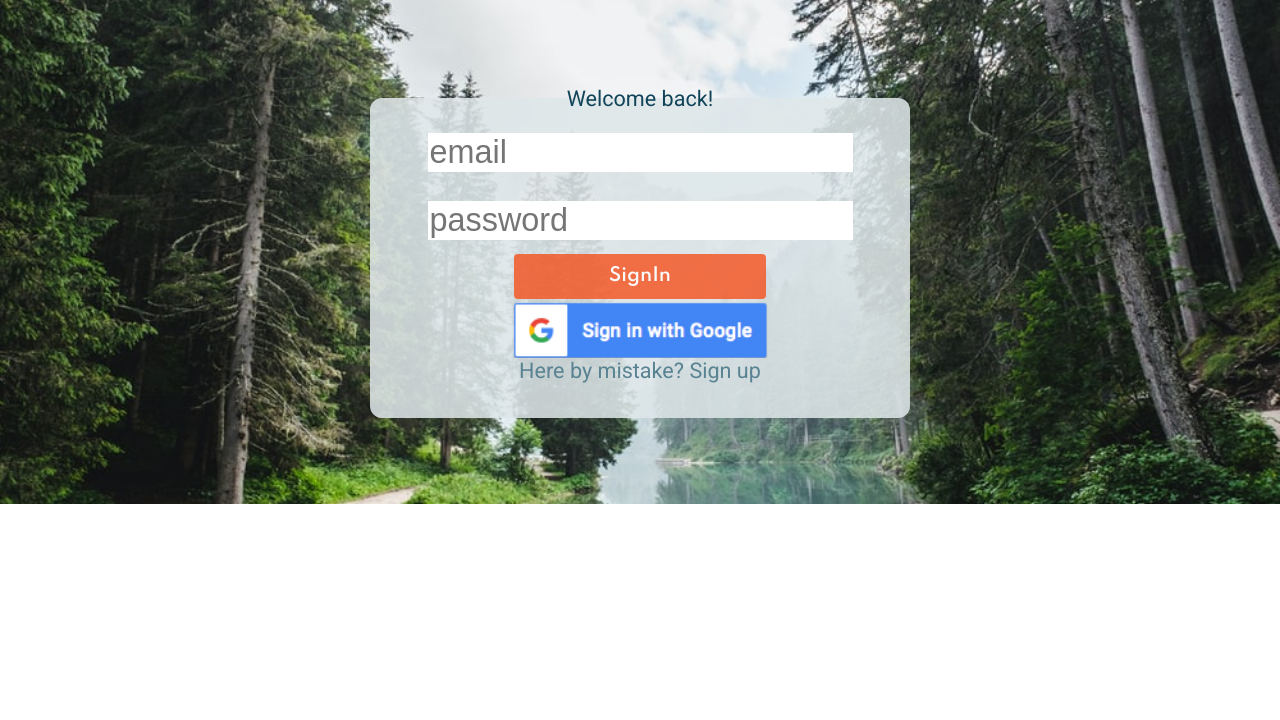
Test: should render a new user signing in
Type "fakeUser@email.com" into the field with placeholder "email" at (640, 152), box top-left (428, 133), bottom-right (852, 172)
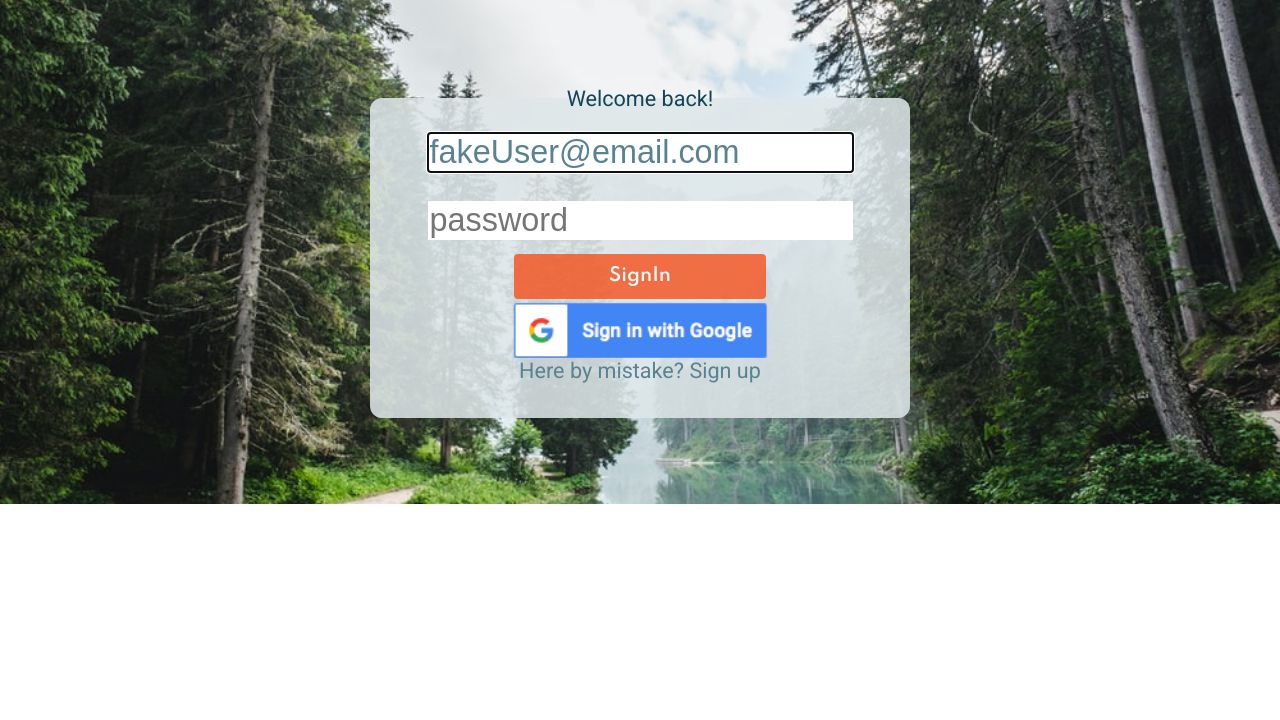
Type "fakepassword" into the password field with placeholder "password" at (640, 220), box top-left (428, 201), bottom-right (852, 240)
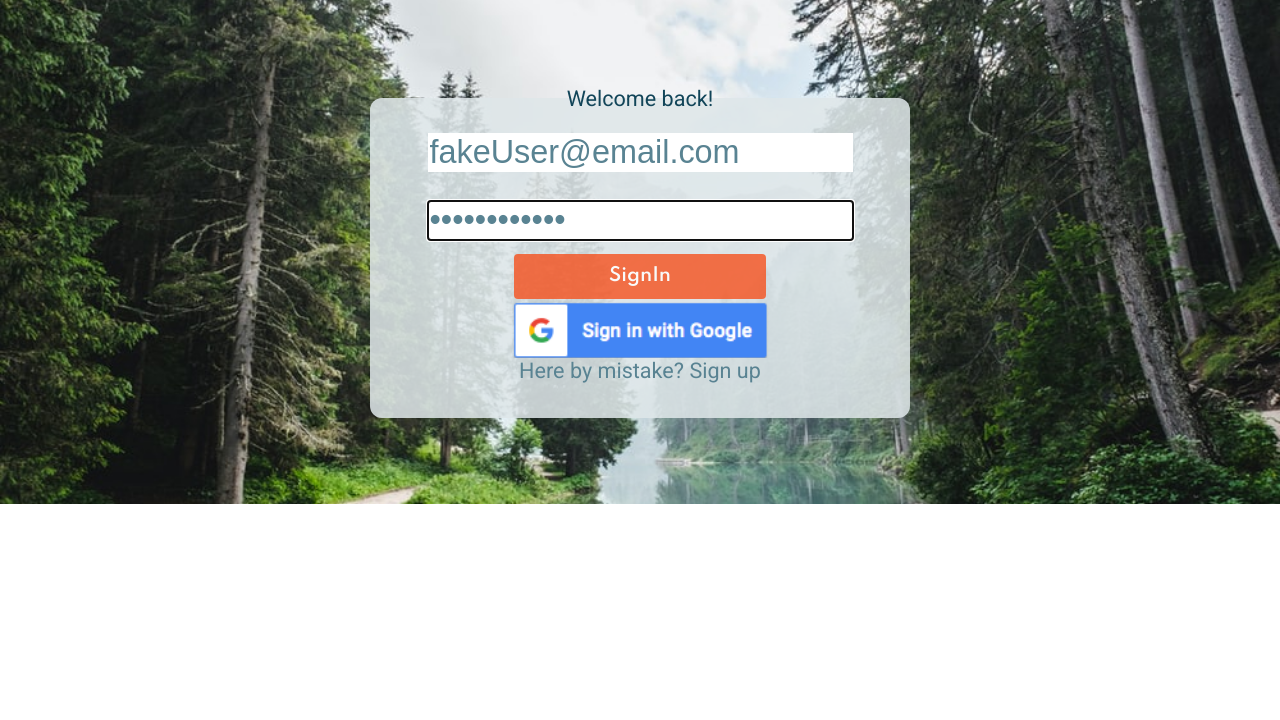
Click the button "SignIn" at (640, 276), box top-left (514, 254), bottom-right (766, 299)
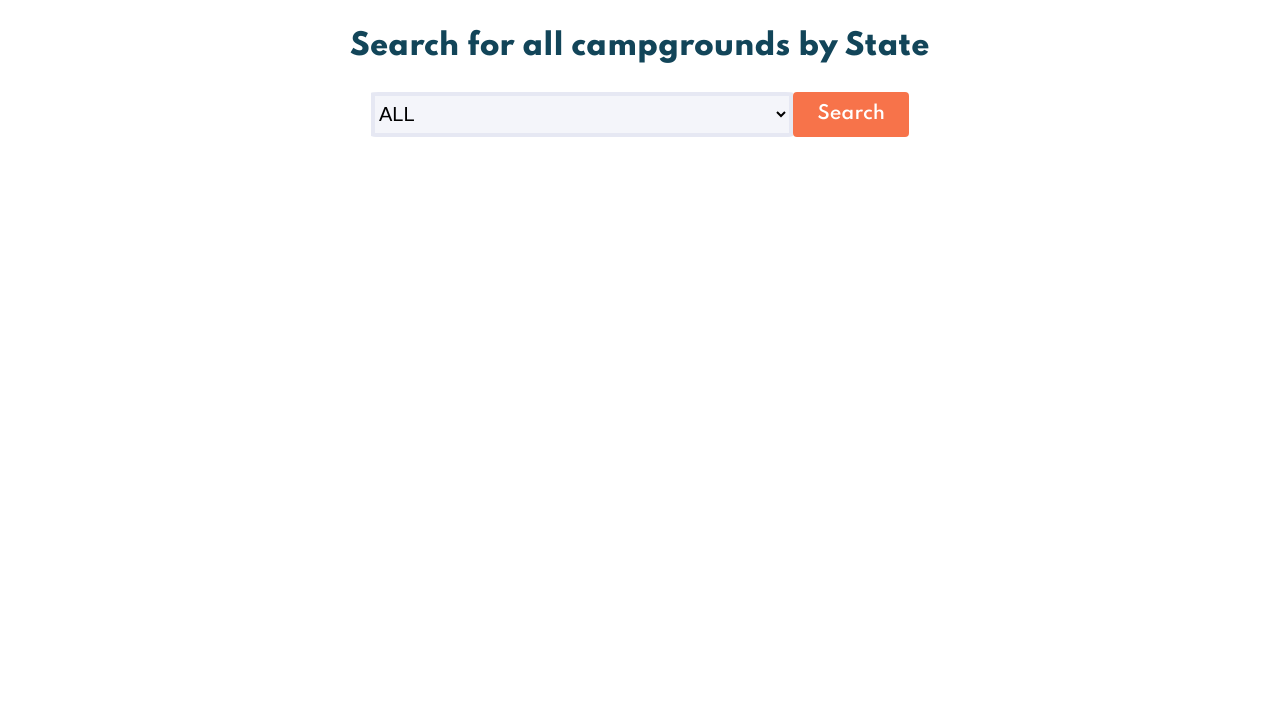
expect the heading "Search for all campgrounds by State" is shown: met, box top-left (350, 30), bottom-right (930, 62)
